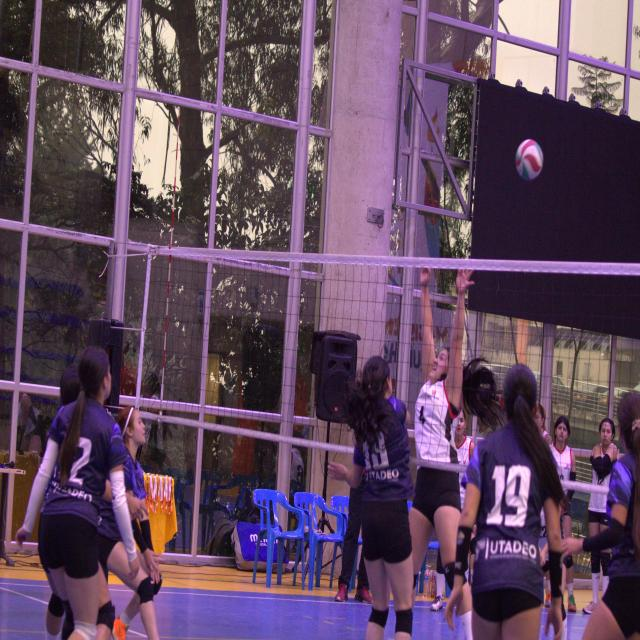volleyball: (515, 138, 544, 179)
